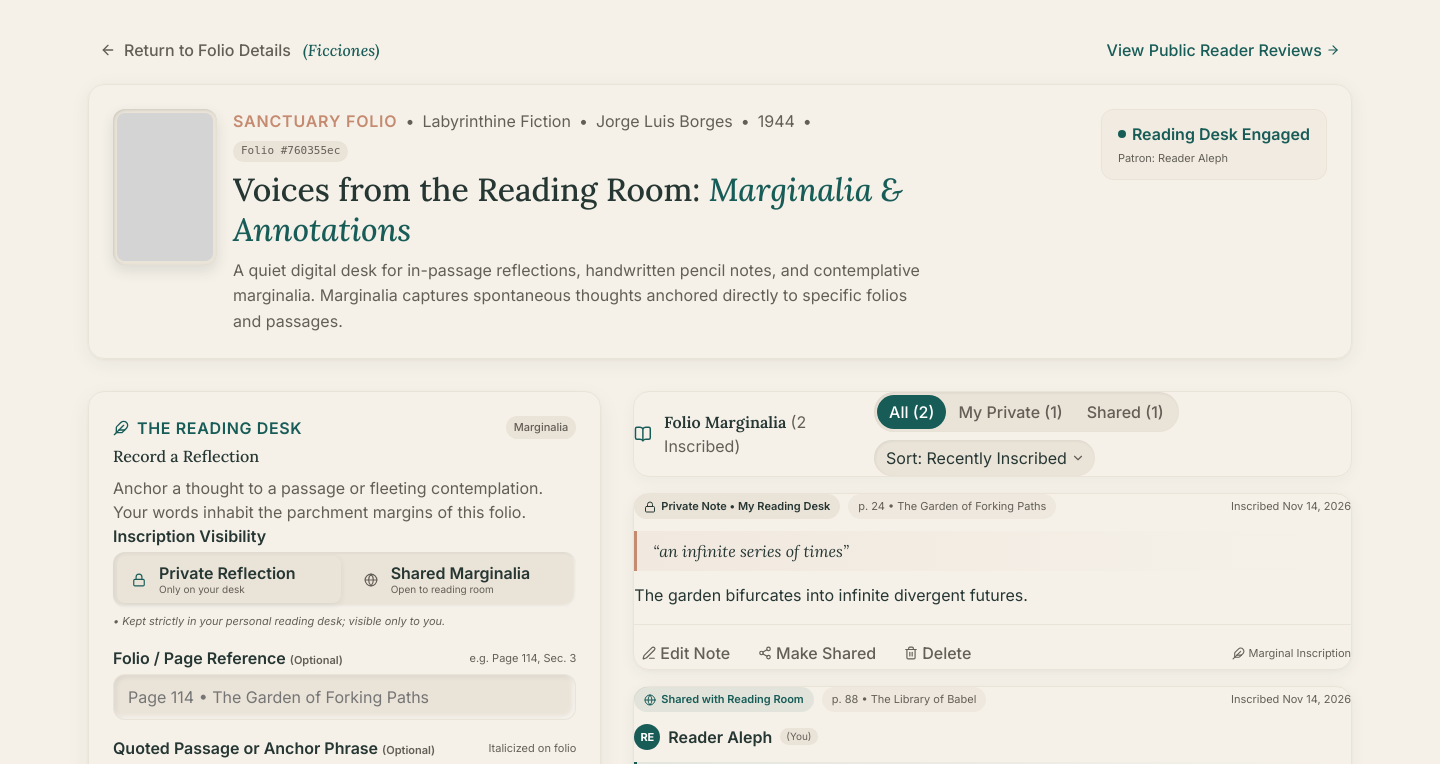
Test: ReadingRoomPage › opens confirmation modal and deletes annotation when confirmed
Expected: the text "The garden bifurcates into infinite divergent futures." is shown, [634, 585, 1028, 605]
Click the button "Delete". click: (938, 653)
box: [896, 637, 979, 669]
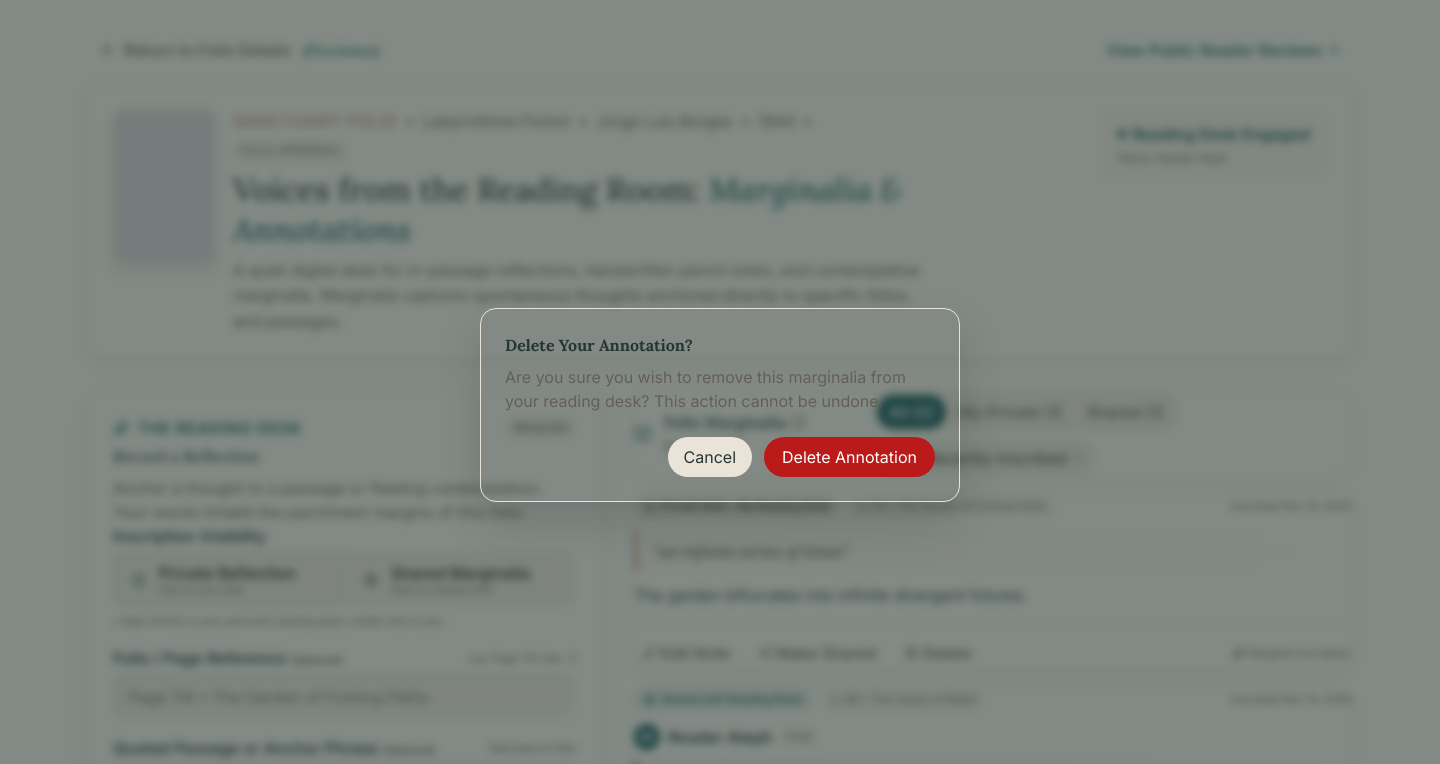
Expected: the heading "Delete Your Annotation?" is shown, [505, 335, 693, 355]
Click the button "Delete Annotation". click: (850, 457)
box: [764, 437, 935, 477]
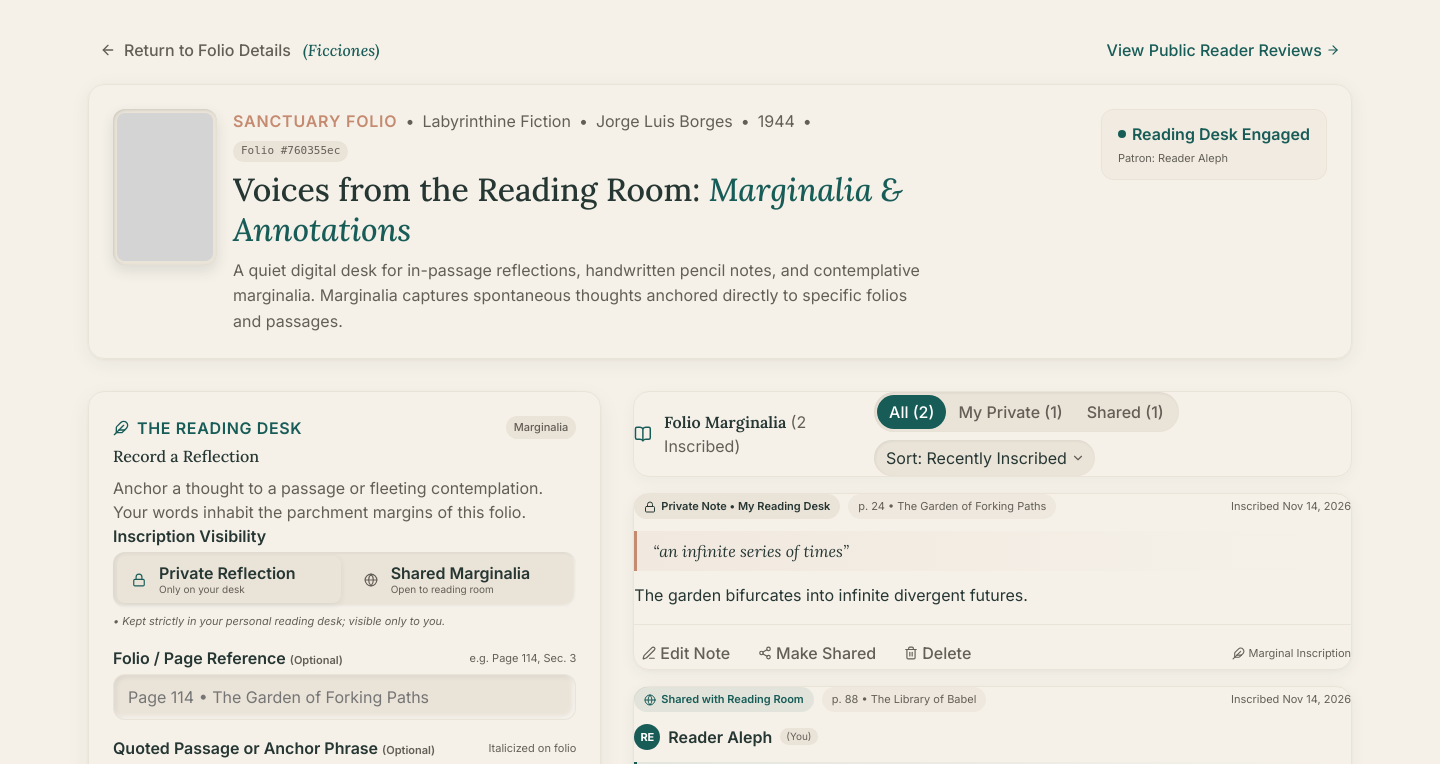
Expected: the heading "Delete Your Annotation?" is gone
